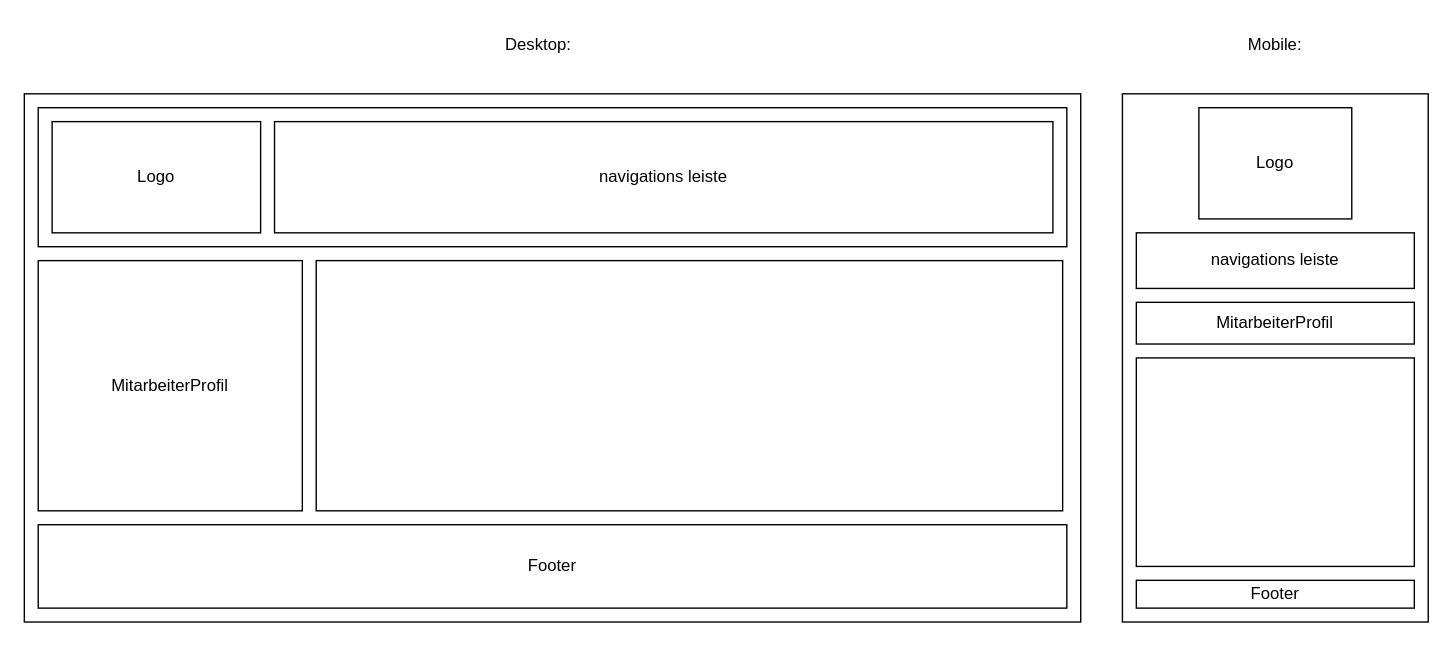
This 1453x646 diagram has some shape labels left out. Each missing label, with the centre of its shape:
Bestellungen: pixel 1274 461
Bestellungen zum Kochen: pixel 689 385
